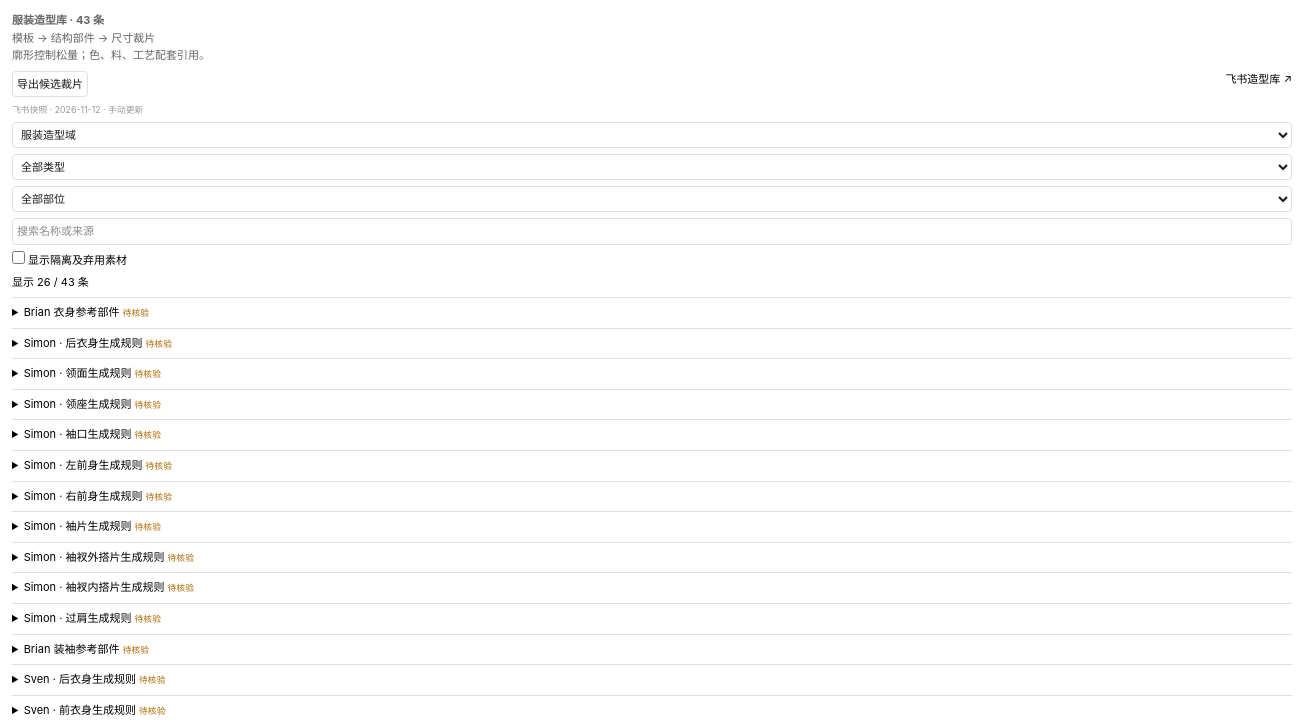
Test: shows export validation errors in the panel
What coordinates should you click on to do the following:
click the button "导出候选裁片"
I would click on:
 (50, 84)
Its box is 12,71 -> 88,97.
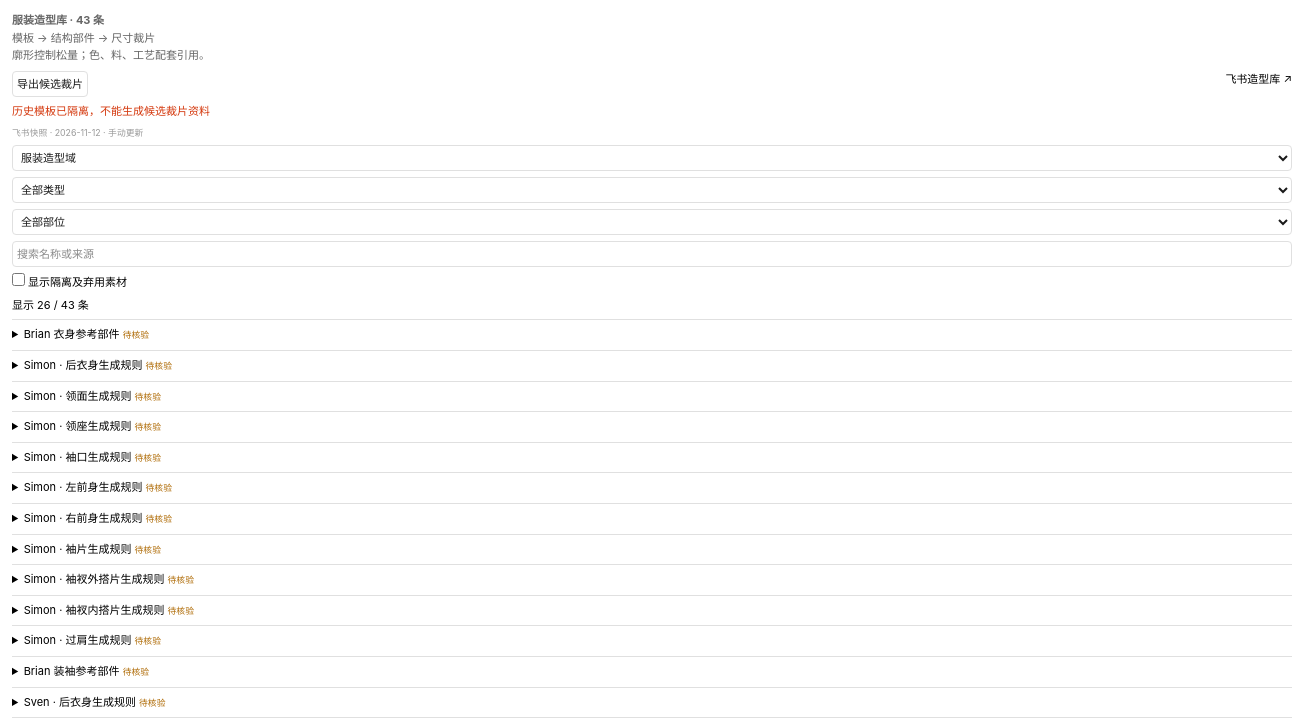
Check: the message "历史模板已隔离，不能生成候选裁片资料" is shown, box 12,104 -> 210,118
